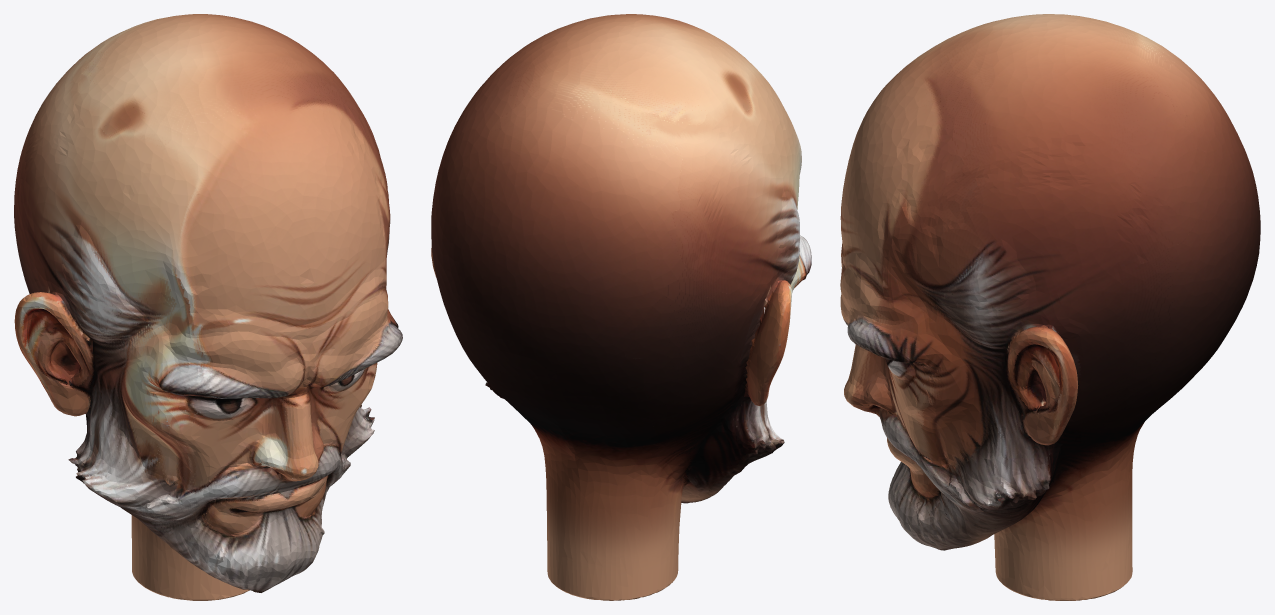
Rendered from side_mosuke_repaired_atlas.glb.
3 renders of one model, left to right at view 1: azimuth 30°, elevation 25°; view 2: azimuth 150°, elevation 25°; view 3: azimuth 270°, elevation 25°, orthographic.
Parts seen in each view (by area): view 1: temp_mesh.ply; view 2: temp_mesh.ply; view 3: temp_mesh.ply.
Boxes of the visible parts, x1,y1,x2,y2 form: temp_mesh.ply: (14, 14, 402, 600); temp_mesh.ply: (431, 14, 811, 600); temp_mesh.ply: (840, 14, 1260, 600).
Size of the model in its own units: 0.9838 by 1.42 by 0.9924.
Materials: 1 (1 with a texture image).
